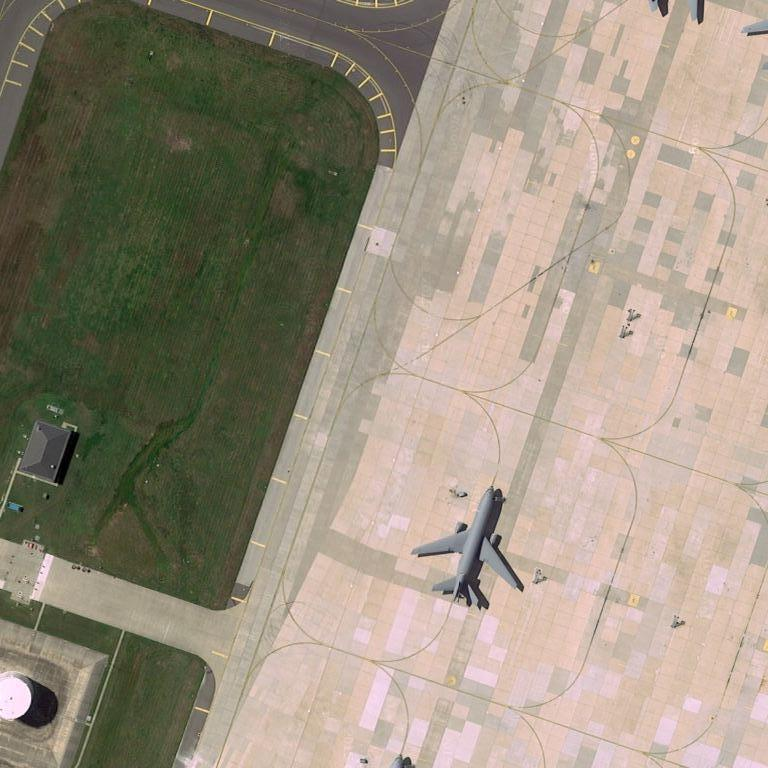KC-10: (413, 487, 531, 613)
